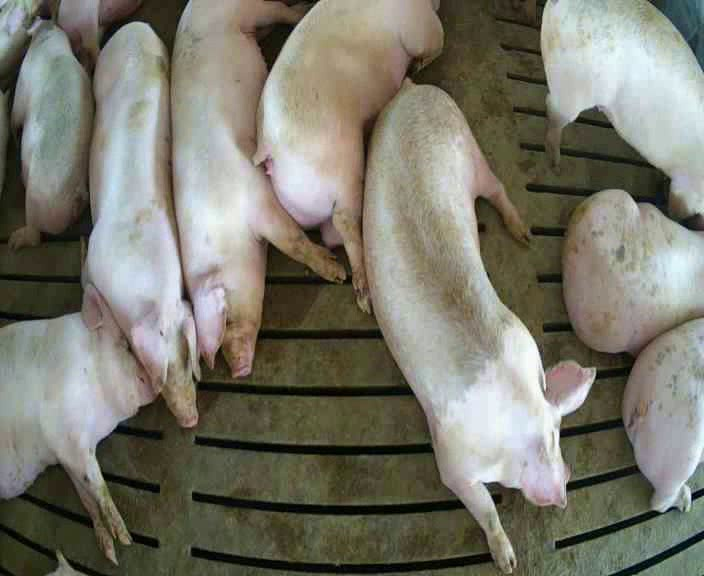pig: (363, 81, 595, 572), (171, 2, 344, 376), (256, 2, 442, 311), (81, 22, 197, 426), (0, 286, 154, 562), (541, 2, 703, 227), (562, 190, 703, 354), (9, 17, 92, 248), (623, 318, 703, 511)
